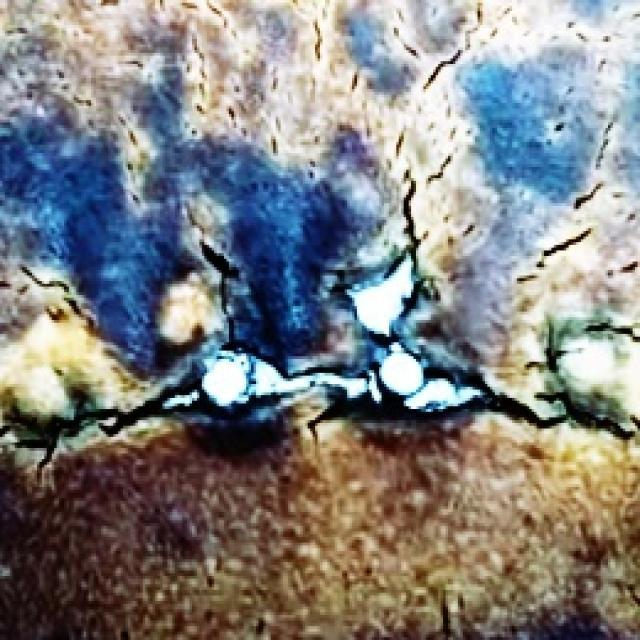crack: (178, 243, 279, 368), (38, 380, 161, 447)
